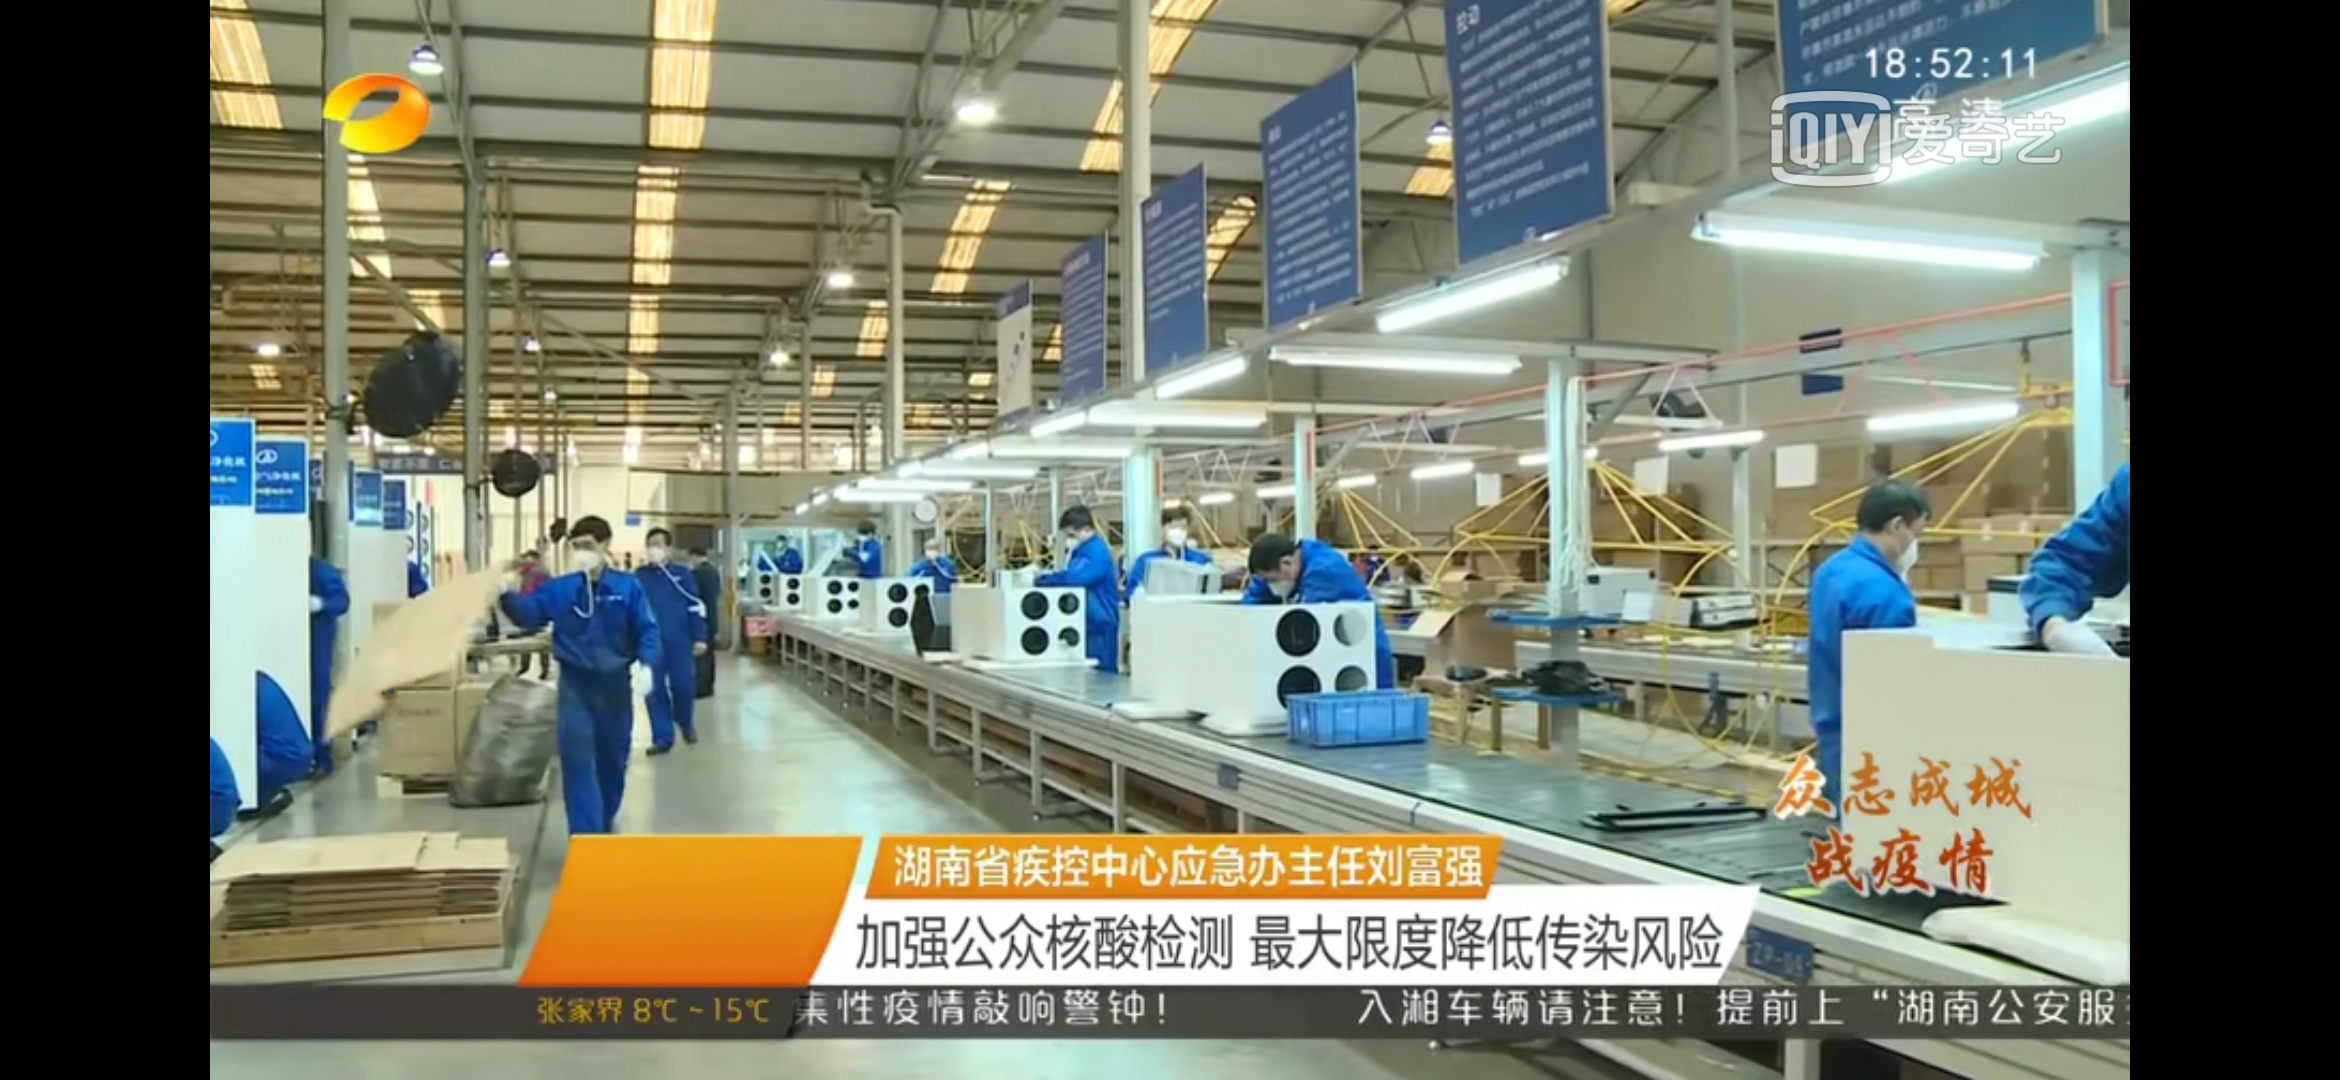correctlyWear: (1883, 510, 1930, 574), (1263, 553, 1301, 600), (573, 539, 607, 579), (645, 536, 672, 568), (1063, 519, 1092, 547), (1164, 518, 1188, 547), (924, 541, 939, 559)
